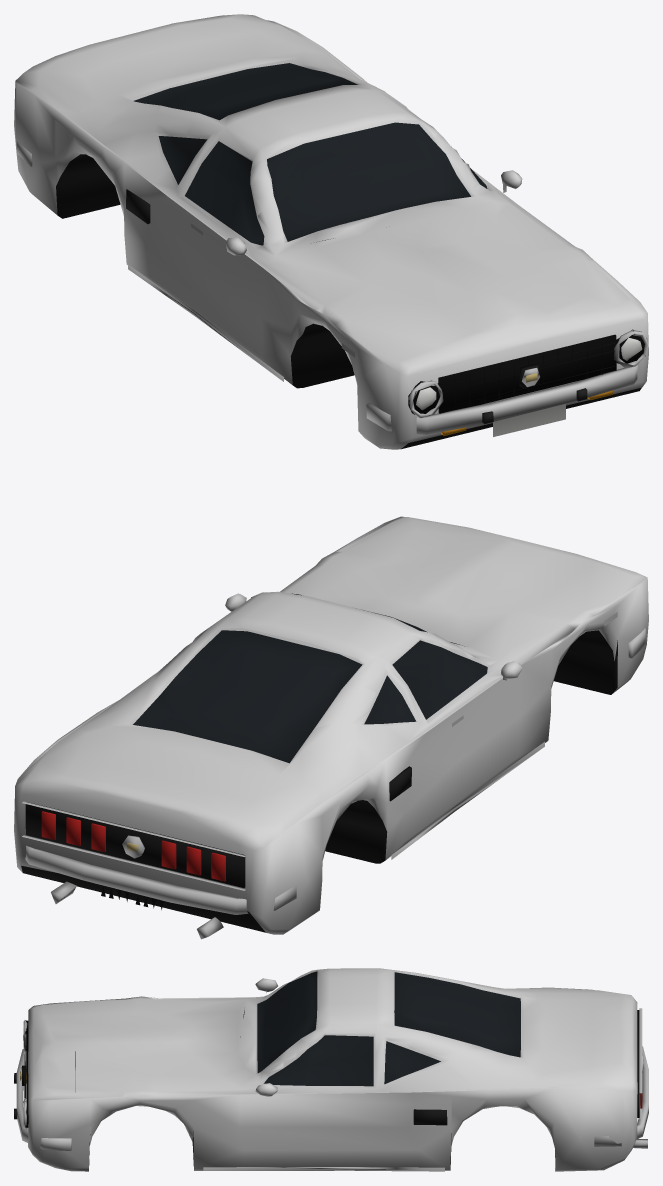
File: bison_lod2.glb
The picture shows the model from 3 angles, top to bottom: view 1: azimuth 30°, elevation 25°; view 2: azimuth 150°, elevation 25°; view 3: azimuth 270°, elevation 25°; orthographic projection. The views are drawn at different scales.
Visible parts, largest first — view 1: bison.001; view 2: bison.001; view 3: bison.001.
Part boxes in pixels (bbox=[...]): bison.001: bbox=[14, 14, 648, 449]; bison.001: bbox=[14, 516, 648, 939]; bison.001: bbox=[14, 968, 648, 1171].
Size of the model in its own units: 1.99 by 1.12 by 4.81.
